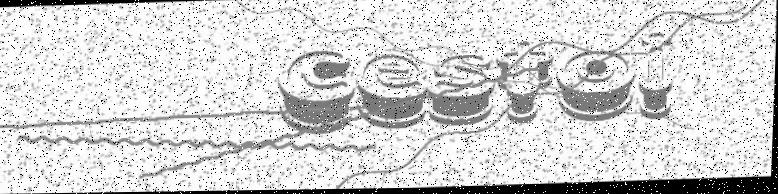c: (263, 43, 362, 142)
e: (355, 45, 433, 134)
i: (628, 30, 686, 129)
o: (553, 48, 642, 125)
s: (423, 46, 500, 133)
t: (493, 37, 554, 129)
